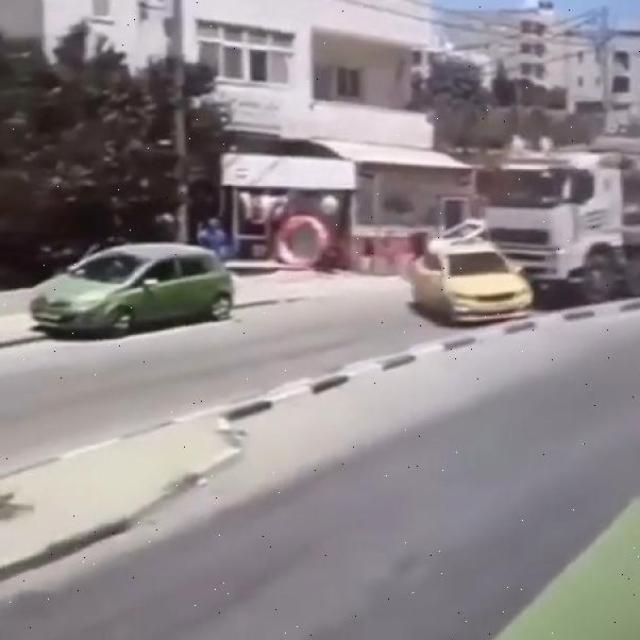accident: (415, 151, 640, 321)
